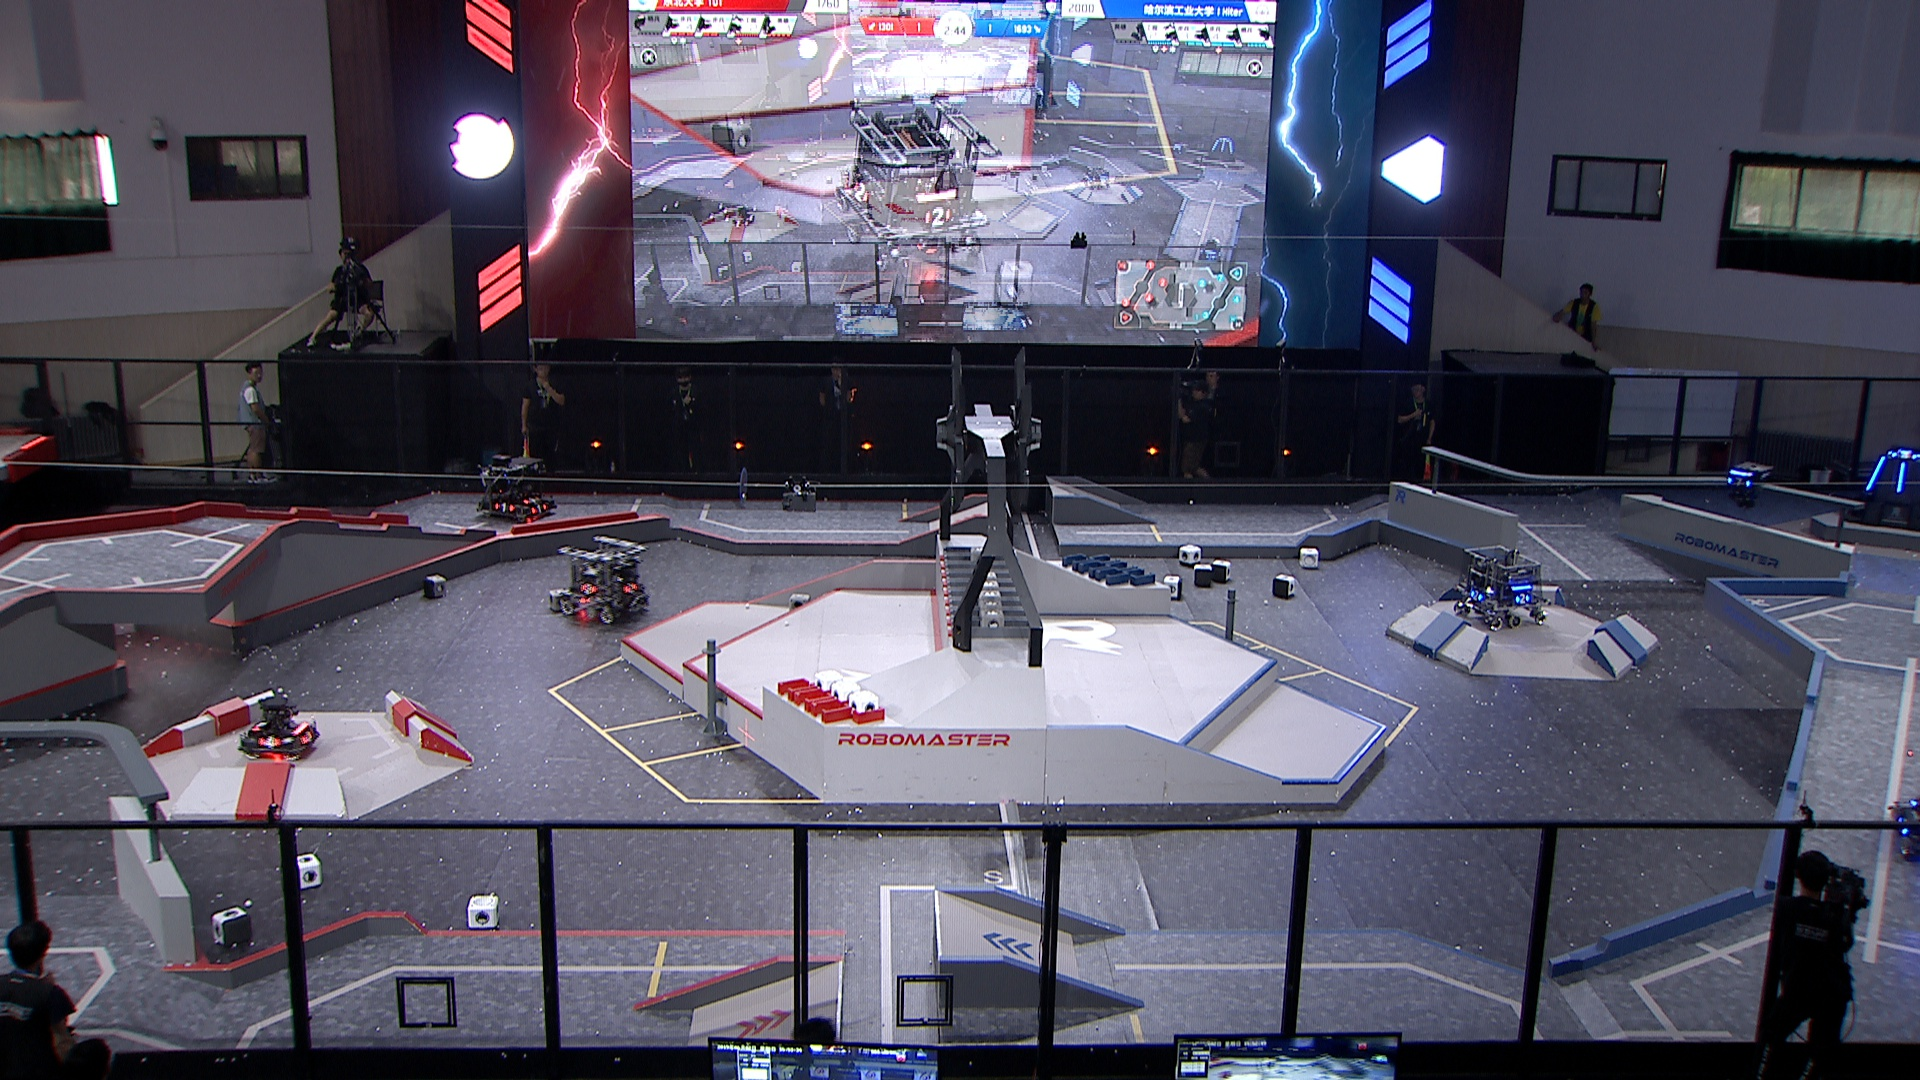armor: (1865, 455, 1890, 495), (1892, 462, 1908, 495), (491, 498, 517, 514), (1726, 473, 1753, 488), (1888, 450, 1920, 462), (295, 727, 314, 746), (527, 498, 549, 516), (258, 735, 280, 750), (578, 580, 596, 597), (1468, 585, 1485, 604), (1513, 591, 1532, 607), (253, 717, 269, 733), (520, 495, 542, 505), (622, 580, 640, 593)
base: (1841, 443, 1920, 535)
car: (1453, 541, 1553, 632), (560, 535, 651, 628), (237, 692, 320, 764), (476, 454, 558, 522), (1884, 781, 1920, 870)
ignore: (831, 83, 1007, 266), (1203, 136, 1237, 164), (1193, 233, 1224, 262), (1081, 164, 1112, 191), (727, 204, 756, 229)
watcher: (1720, 456, 1774, 510)
